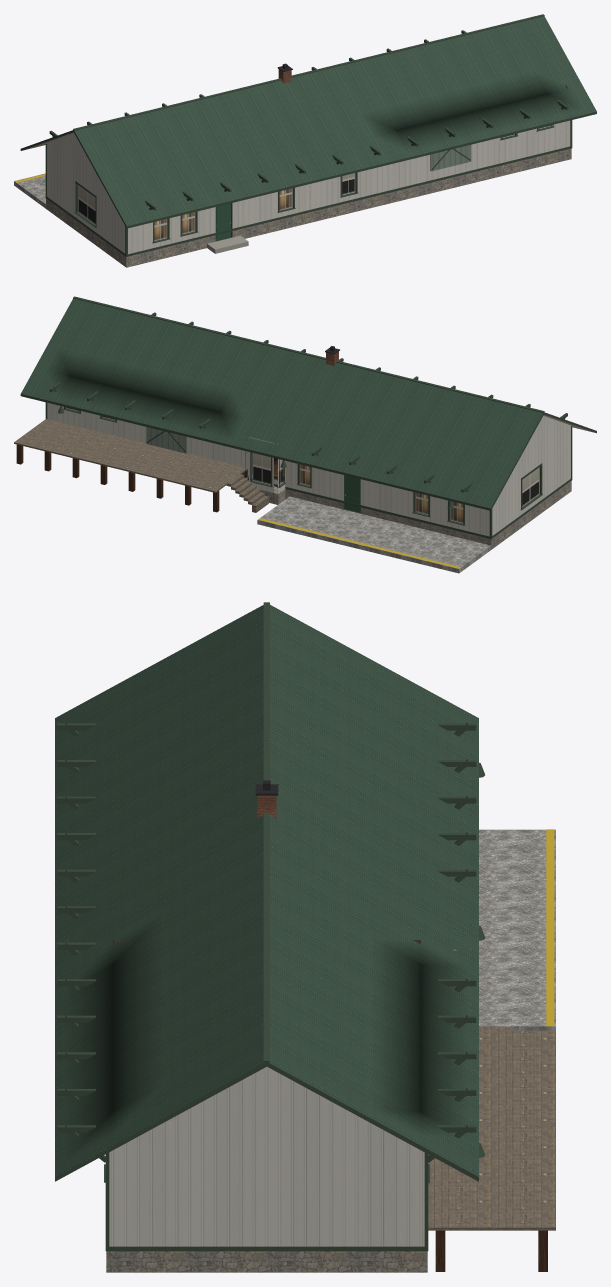
File: town_depot.gltf
3 views of the same model, one above another, from view 1: azimuth 30°, elevation 25°; view 2: azimuth 150°, elevation 25°; view 3: azimuth 270°, elevation 25° (orthographic). The views are drawn at different scales.
Parts seen in each view (by area): view 1: TownDepot_Roof, TownDepot_Walls, TownDepot_Base, TownDepot_Trim, TownDepot_Fascia, TownDepot_Window, TownDepot_Ridge, TownDepot_Brackets, TownDepot_FreightDoors, TownDepot_Platform, TownDepot_Door_1_Leaf, TownDepot_Stoop; view 2: TownDepot_Roof, TownDepot_Walls, TownDepot_Platform, TownDepot_FreightPlatform, TownDepot_Base, TownDepot_Trim, TownDepot_Window, TownDepot_Fascia, TownDepot_Ridge, TownDepot_Crib, TownDepot_Brackets, TownDepot_Steps (+4 smaller); view 3: TownDepot_Roof, TownDepot_Walls, TownDepot_FreightPlatform, TownDepot_Platform, TownDepot_Brackets, TownDepot_Base, TownDepot_Ridge, TownDepot_Trim, TownDepot_Fascia, TownDepot_PlatformEdge, TownDepot_Crib.
Part boxes in pixels (x1,y1,x2,y2): TownDepot_Roof: (74, 16, 596, 225); TownDepot_Walls: (46, 120, 570, 254); TownDepot_Base: (46, 148, 571, 267); TownDepot_Trim: (45, 120, 572, 256); TownDepot_Fascia: (20, 111, 596, 228); TownDepot_Window: (78, 125, 551, 240); TownDepot_Ridge: (73, 14, 544, 130); TownDepot_Brackets: (49, 30, 567, 210); TownDepot_FreightDoors: (430, 145, 471, 171); TownDepot_Platform: (14, 173, 45, 208); TownDepot_Door_1_Leaf: (215, 203, 231, 240); TownDepot_Stoop: (207, 235, 248, 253); TownDepot_Roof: (21, 298, 543, 508); TownDepot_Walls: (47, 402, 571, 536); TownDepot_Platform: (257, 496, 491, 573); TownDepot_FreightPlatform: (14, 419, 247, 492); TownDepot_Base: (248, 480, 571, 549); TownDepot_Trim: (45, 402, 572, 539); TownDepot_Window: (66, 407, 539, 523); TownDepot_Fascia: (20, 394, 596, 510); TownDepot_Ridge: (73, 296, 544, 412); TownDepot_Crib: (16, 444, 244, 512); TownDepot_Brackets: (49, 312, 567, 492); TownDepot_Steps: (227, 474, 268, 512); TownDepot_Roof: (55, 605, 478, 1176); TownDepot_Walls: (109, 1067, 424, 1246); TownDepot_FreightPlatform: (428, 1030, 555, 1230); TownDepot_Platform: (479, 829, 555, 1030); TownDepot_Brackets: (57, 722, 476, 1162); TownDepot_Base: (106, 1251, 427, 1272); TownDepot_Ridge: (263, 602, 269, 1062); TownDepot_Trim: (104, 1152, 429, 1251); TownDepot_Fascia: (55, 1062, 478, 1181); TownDepot_PlatformEdge: (546, 829, 554, 1026); TownDepot_Crib: (435, 1230, 547, 1271).
Size of what is drawn, in the model's own units: 33.8 by 8.6 by 15.6.
Materials: 2 (2 with a texture image).
